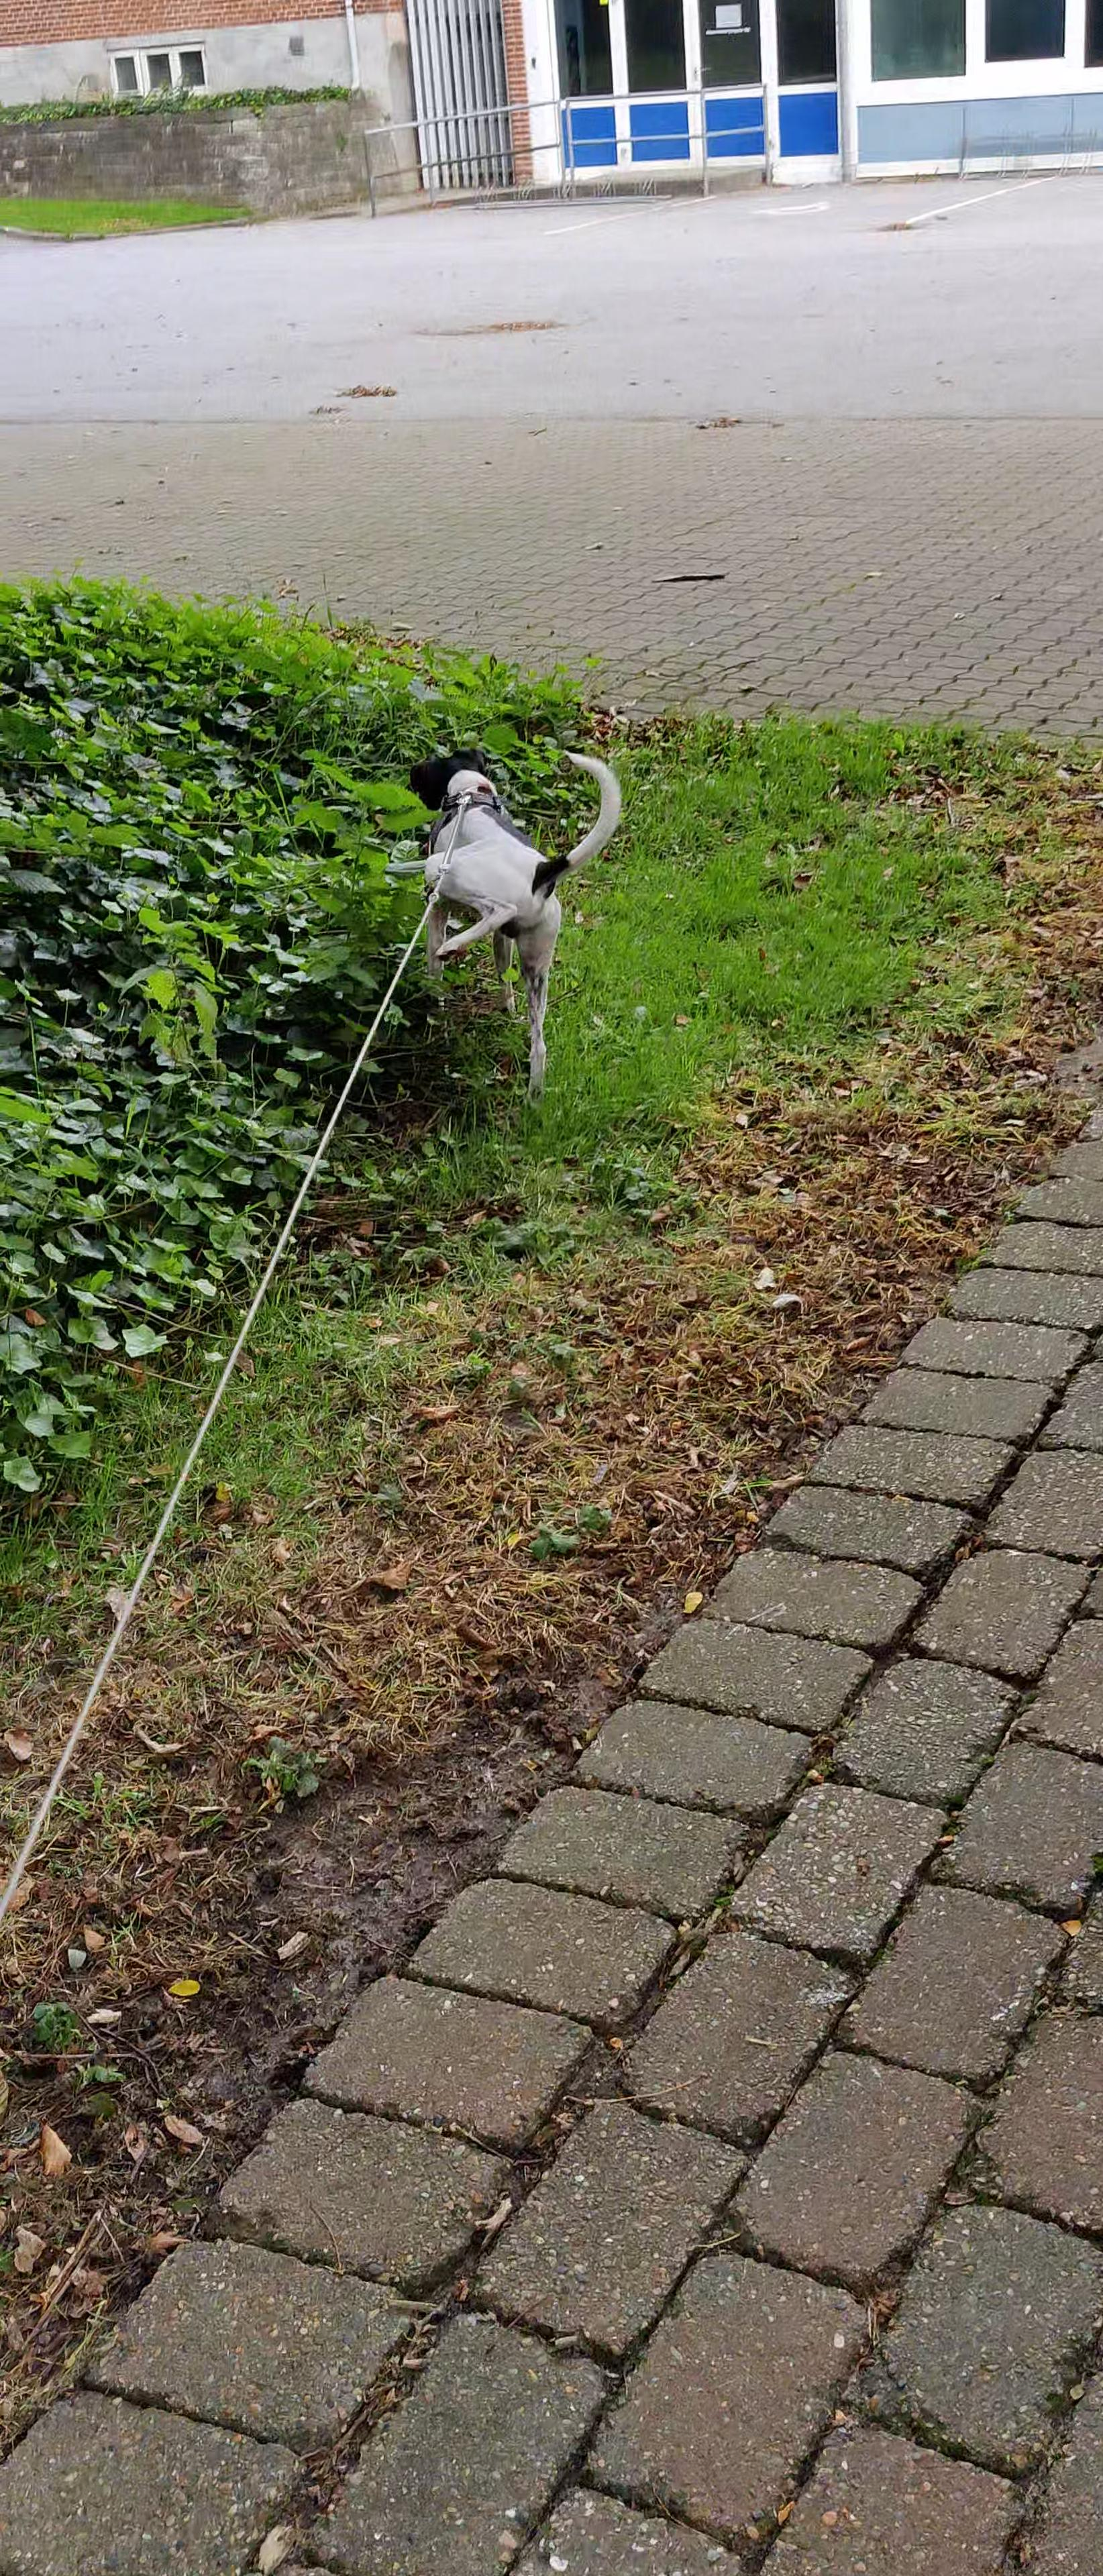Dog: (342, 733, 641, 1104)
